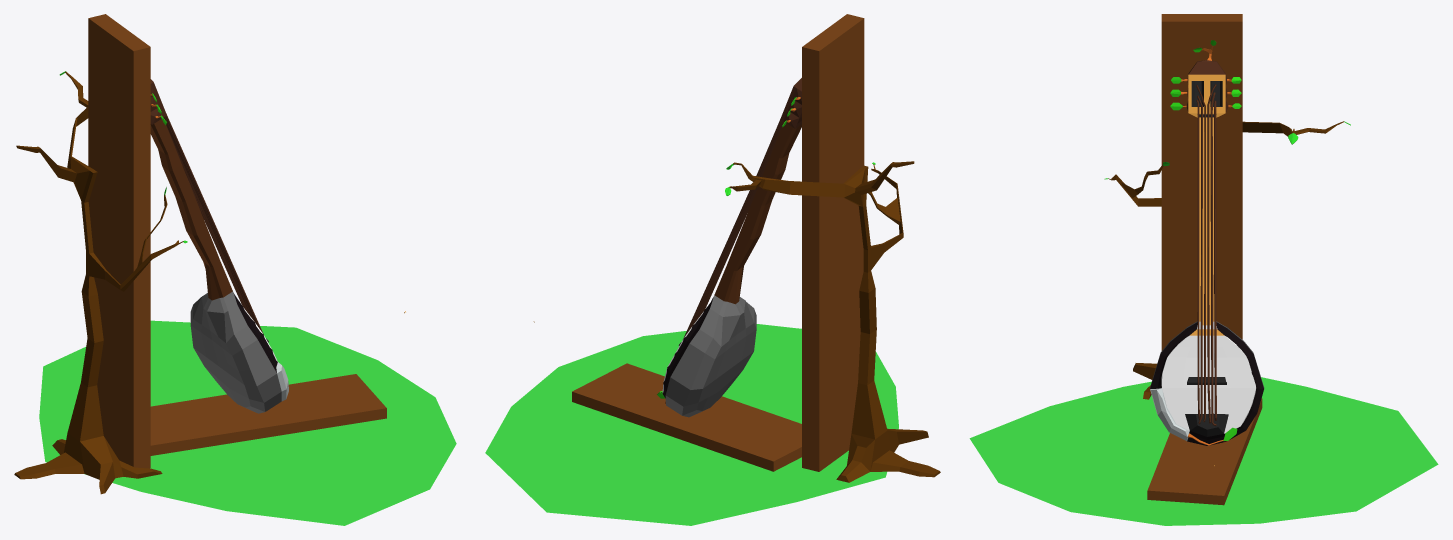
The model's file is banjo.glb.
The picture shows the model from 3 angles, left to right: view 1: azimuth 30°, elevation 25°; view 2: azimuth 150°, elevation 25°; view 3: azimuth 270°, elevation 25°; orthographic projection. The views are drawn at different scales.
Visible parts, largest first — view 1: Cube.002, Cube, Cube.003; view 2: Cube.002, Cube, Cube.003; view 3: Cube.002, Cube, Cube.003.
Boxes of the visible parts, x1,y1,x2,y2 form: Cube.002: (39, 14, 456, 525); Cube: (150, 79, 288, 413); Cube.003: (14, 71, 187, 494); Cube.002: (485, 14, 898, 525); Cube: (657, 78, 801, 417); Cube.003: (725, 161, 940, 482); Cube.002: (969, 14, 1438, 525); Cube: (1150, 40, 1264, 445); Cube.003: (1104, 121, 1350, 399).
Size of the model in its own units: 5.9 by 5.96 by 6.69.
